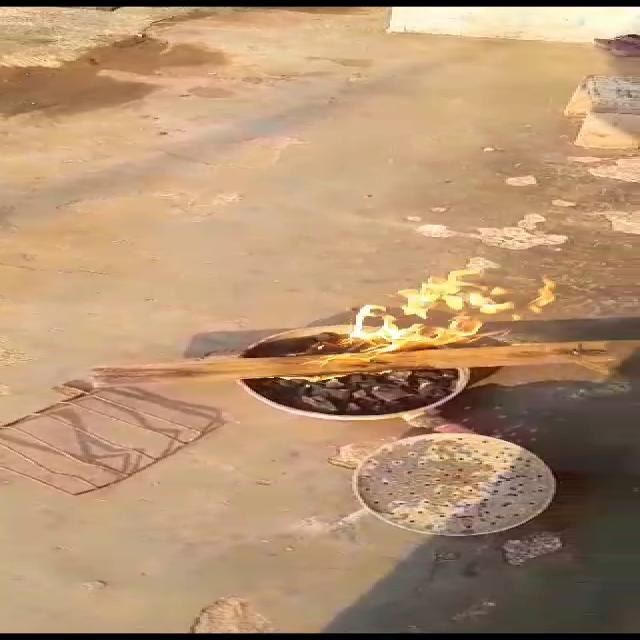Fire: (324, 257, 564, 355)
